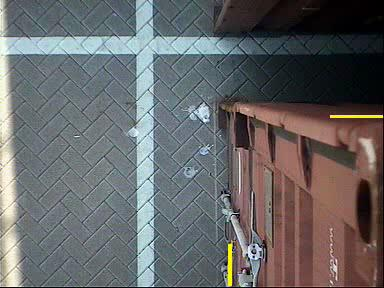groundmarker_2: (5, 113, 129, 208)
